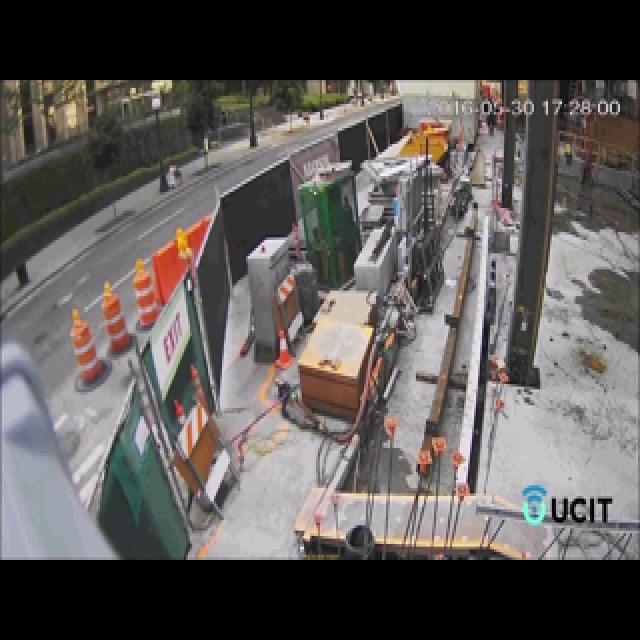arrest: (333, 81, 585, 459)
